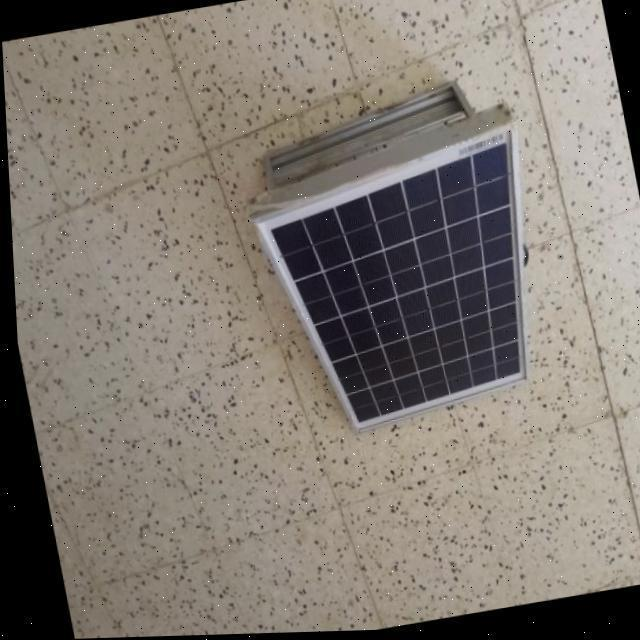Normal Solar Panel: (238, 132, 558, 438)
